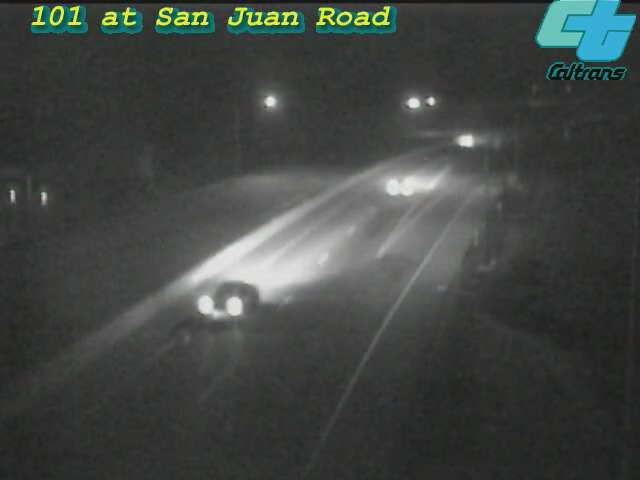vehicle: (357, 149, 437, 229), (199, 265, 279, 345), (444, 116, 494, 166)
